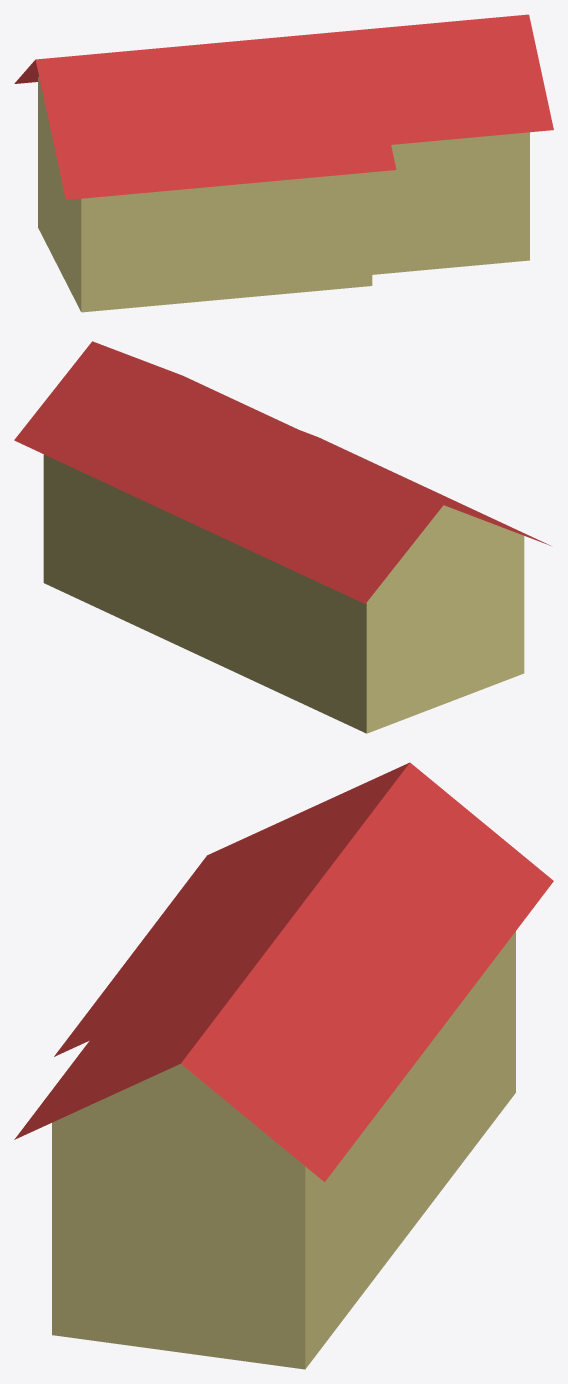
3 views of the same model, one above another, from view 1: azimuth 30°, elevation 25°; view 2: azimuth 150°, elevation 25°; view 3: azimuth 270°, elevation 25° (orthographic). The views are drawn at different scales.
Size of the model in its own units: 27.42 by 17.96 by 11.09.
